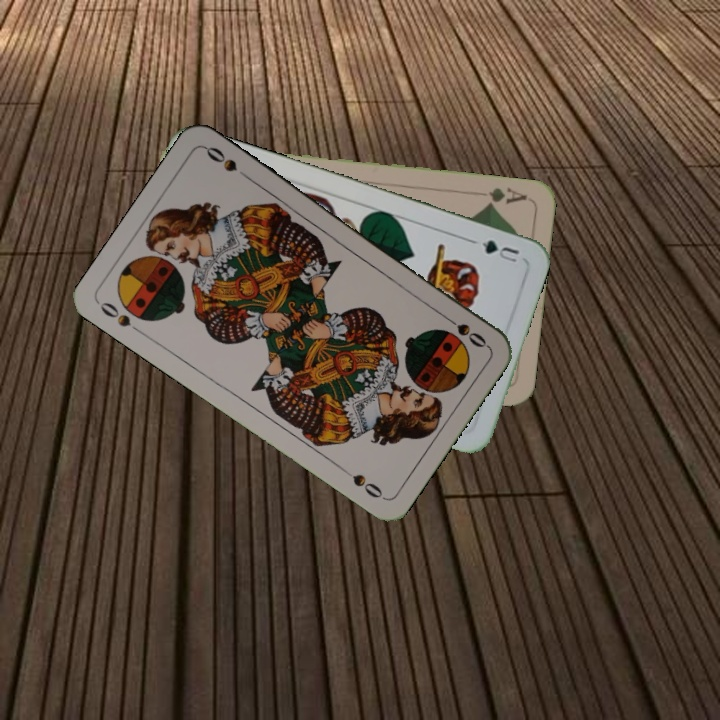GA: (471, 183, 530, 209)
GU: (476, 235, 522, 266)
SO: (438, 310, 490, 351), (95, 298, 146, 338)
